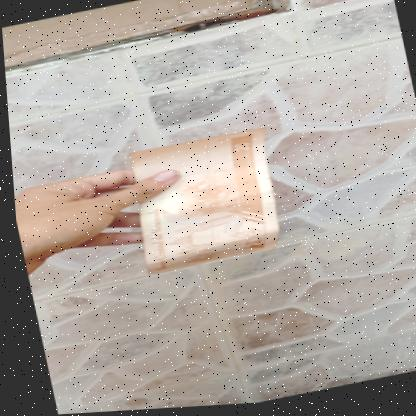twenty-back-vef: (118, 127, 288, 279)
